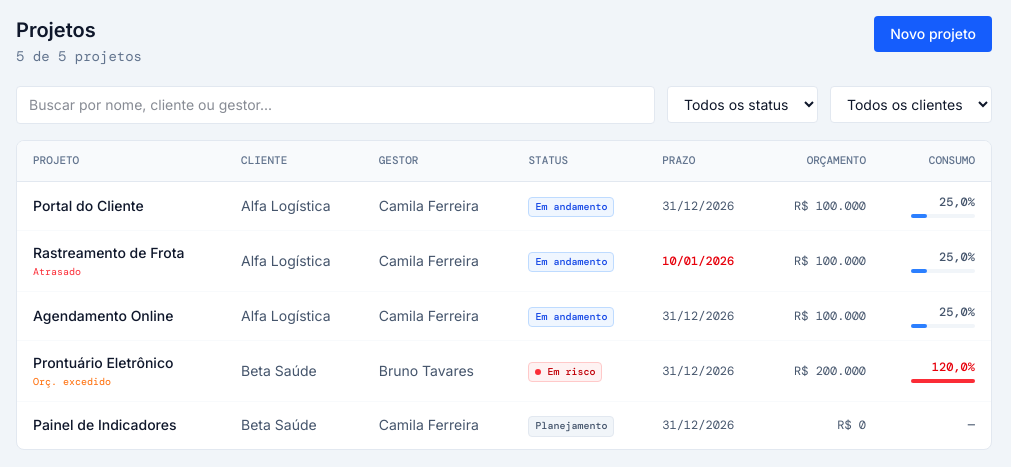
Test: ProjectsPage (RF04) › filtra por cliente
Expected: the link "Portal do Cliente" is shown, [33, 197, 144, 214]
Select "Beta Saúde" in the 2nd dropdown named "Filtrar por cliente" at (911, 104), box [830, 86, 992, 123]
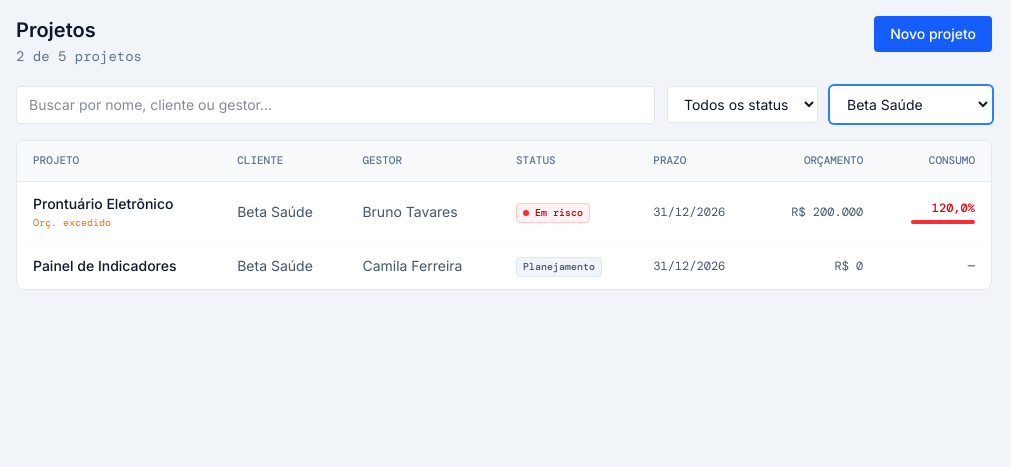
Now the text "2 de 5 projetos" is shown, box [16, 46, 142, 66]
Now the link "Portal do Cliente" is gone
